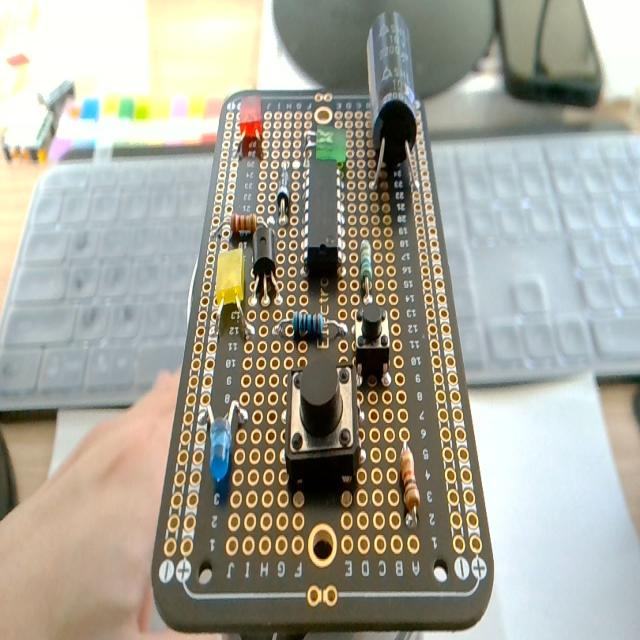Electrolytic capacitor: (364, 12, 420, 195)
IC: (302, 156, 343, 270)
diode: (276, 167, 290, 222)
led: (199, 397, 248, 479), (235, 90, 266, 162), (214, 246, 245, 307), (316, 124, 346, 166)
resistor: (400, 443, 420, 517), (359, 237, 375, 301), (292, 311, 324, 338), (231, 212, 257, 237)
switch: (285, 350, 359, 491), (356, 304, 390, 383)
transistor: (251, 222, 277, 303)
